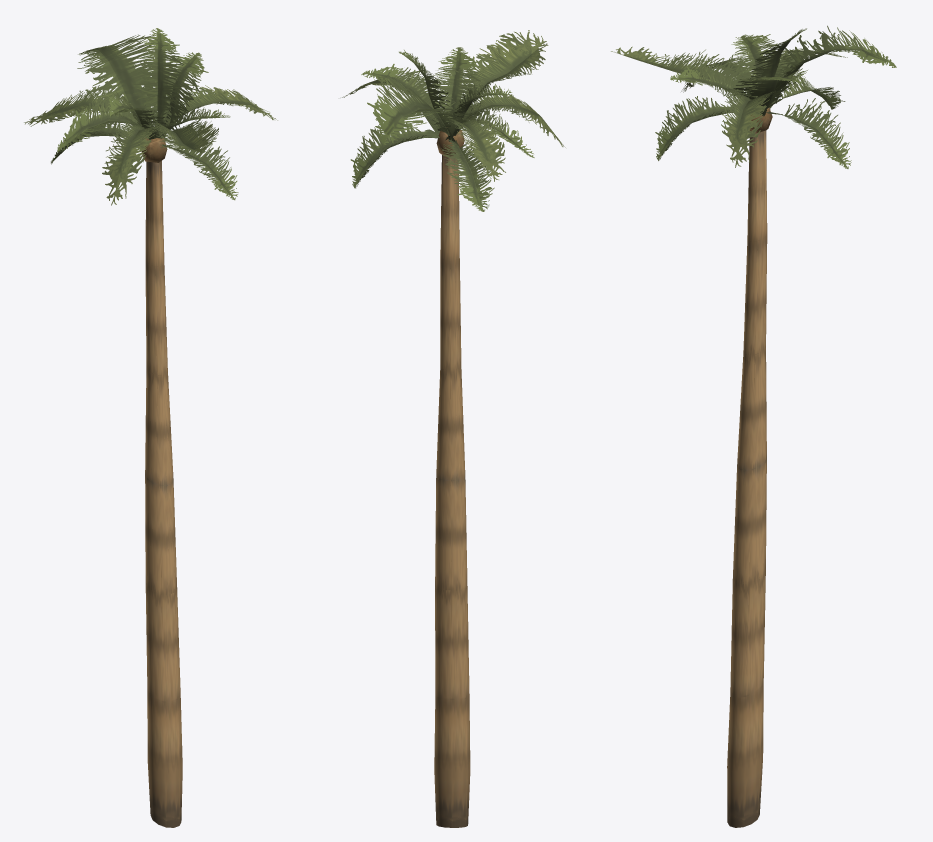
File: LeafyTree_01.fbx
The picture shows the model from 3 angles, left to right: view 1: azimuth 30°, elevation 25°; view 2: azimuth 150°, elevation 25°; view 3: azimuth 270°, elevation 25°; orthographic projection. The views are drawn at different scales.
Visible parts, largest first — view 1: Cylinder; view 2: Cylinder; view 3: Cylinder.
Part boxes in pixels (box(x1,y1,x2,y2)): Cylinder: box(24, 28, 277, 827); Cylinder: box(342, 30, 565, 827); Cylinder: box(611, 25, 896, 827).
Size of the model in its own units: 758 by 2288 by 809.
